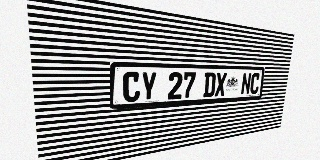2: (168, 72, 183, 100)
7: (182, 72, 196, 99)
C: (123, 72, 140, 103), (249, 73, 260, 94)
D: (203, 72, 216, 97)
N: (240, 73, 252, 95)
X: (214, 73, 227, 97)
Y: (140, 72, 157, 101)
